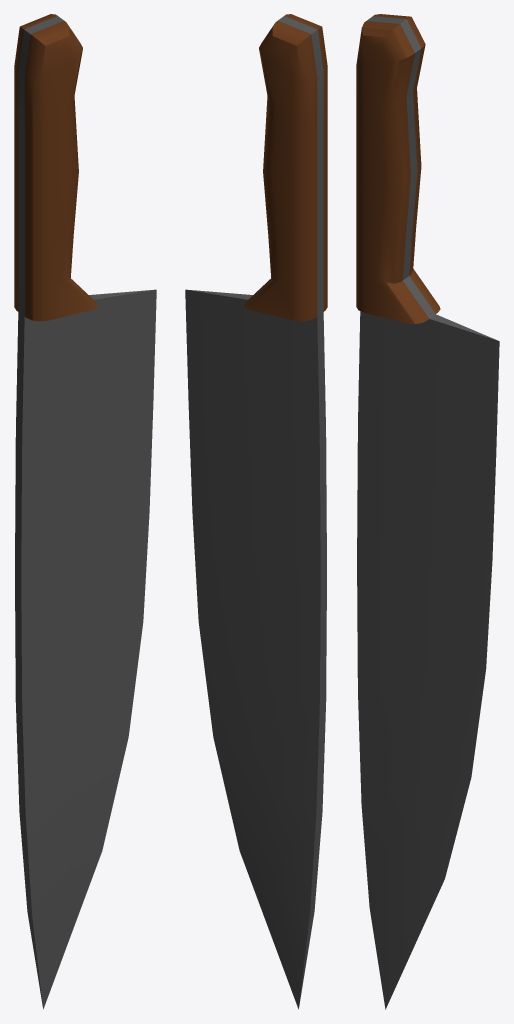
Rendered from Knife.fbx.
3 renders of one model, left to right at view 1: azimuth 30°, elevation 25°; view 2: azimuth 150°, elevation 25°; view 3: azimuth 330°, elevation 25°, orthographic.
Parts seen in each view (by area): view 1: Knife; view 2: Knife; view 3: Knife.
Part boxes in pixels (x1,y1,x2,y2): Knife: (14, 14, 156, 1009); Knife: (185, 14, 327, 1009); Knife: (356, 14, 499, 1009).
Size of the model in its own units: 11.97 by 81.43 by 3.95.
